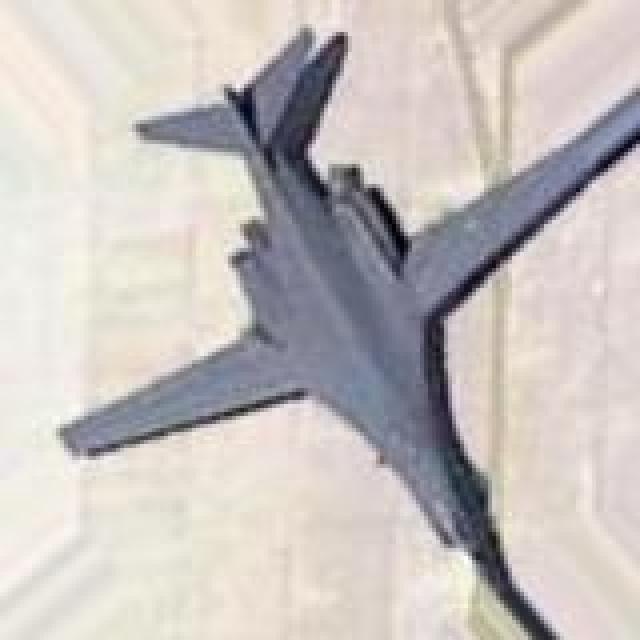B-1_TopDown: (52, 16, 636, 636)
